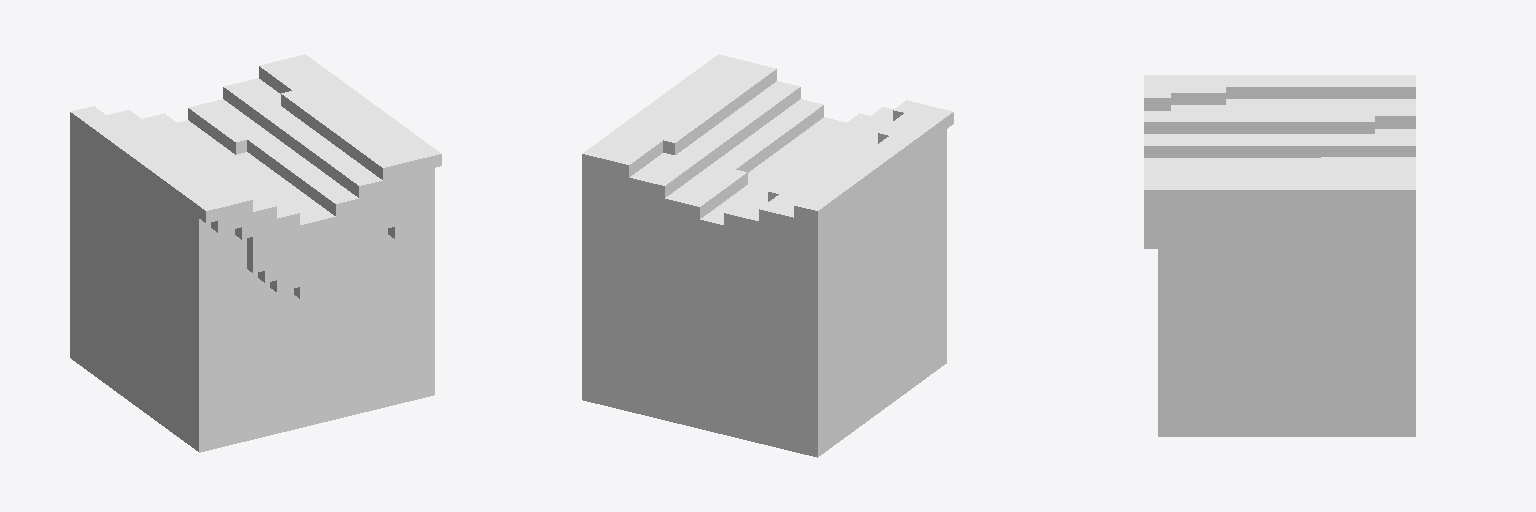
Rendered from GrassBlockDip.obj.
3 views of the same model, side by side, from view 1: azimuth 30°, elevation 25°; view 2: azimuth 150°, elevation 25°; view 3: azimuth 270°, elevation 25° (orthographic).
Size of the model in its own units: 20 by 20 by 20.